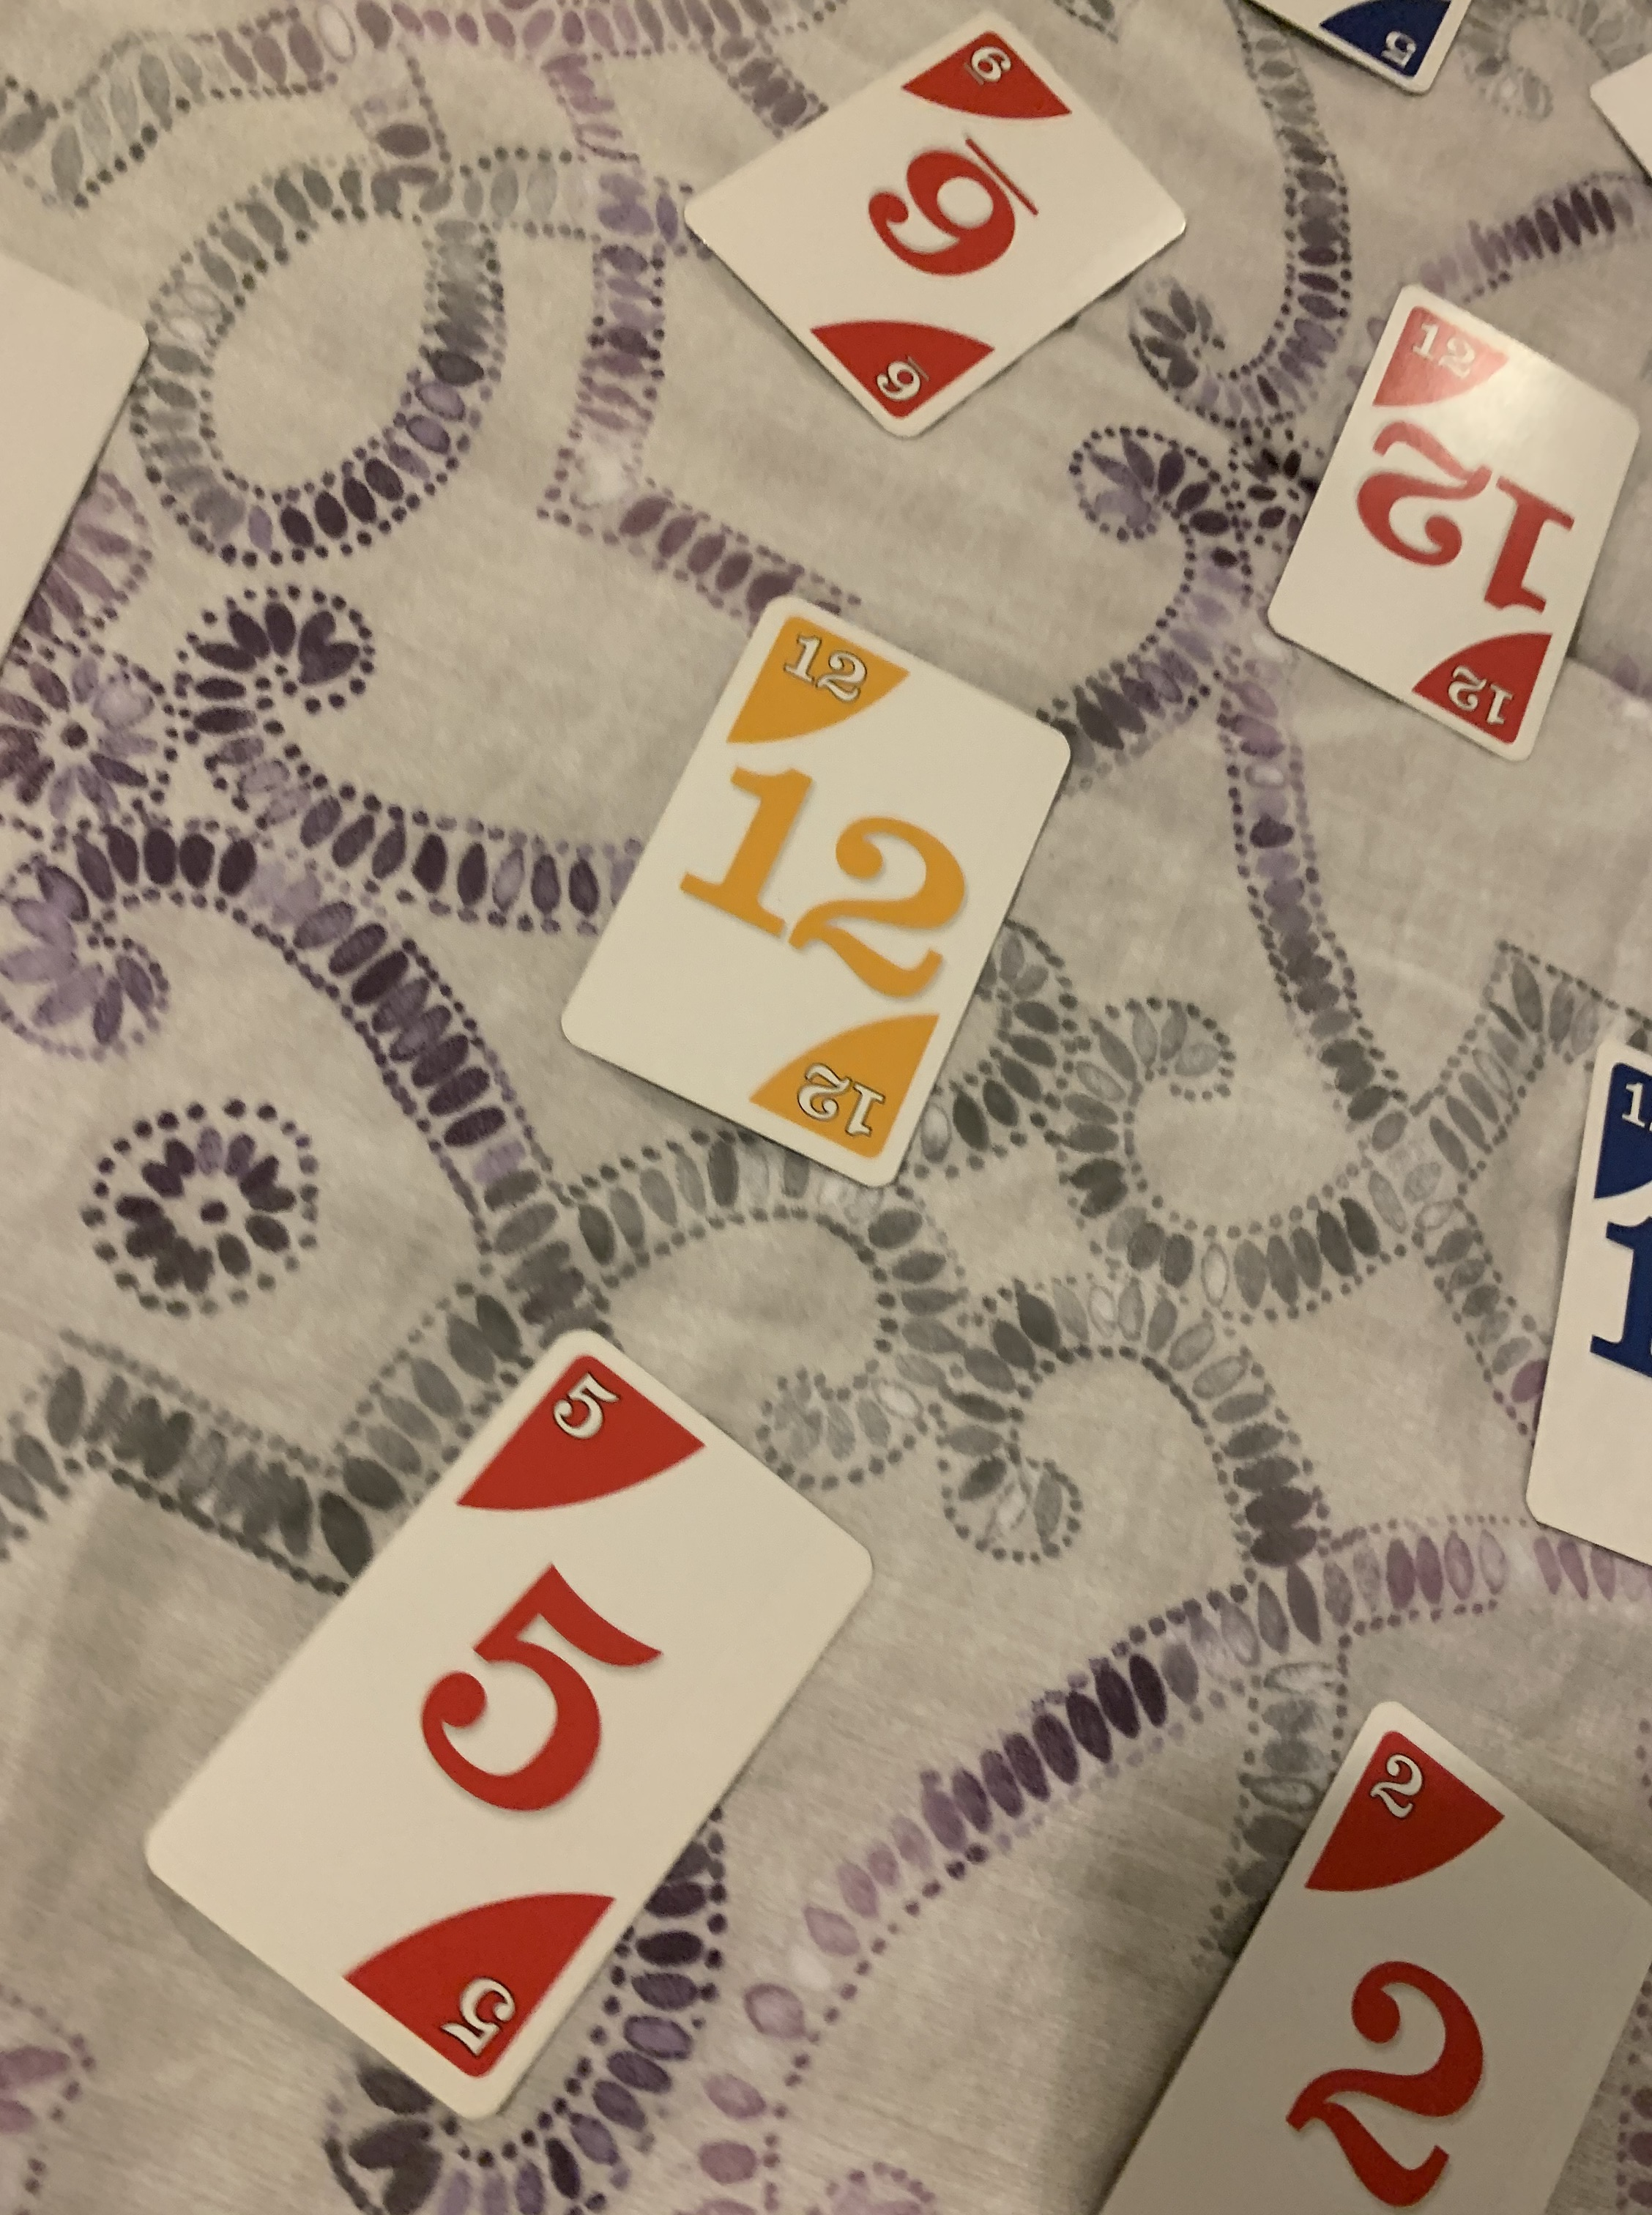five: (146, 1324, 882, 2116)
six: (666, 14, 1189, 436)
twelve: (547, 592, 1086, 1184), (1262, 288, 1643, 767)
two: (1079, 1692, 1652, 2201)
